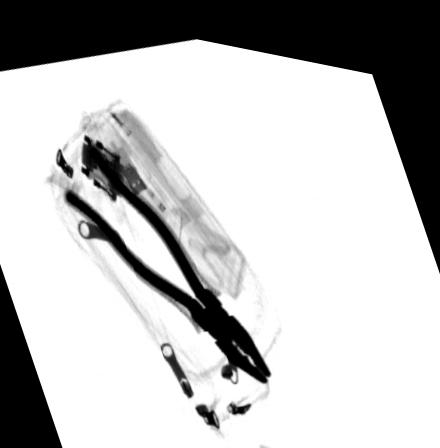Pliers: (63, 138, 273, 373)
